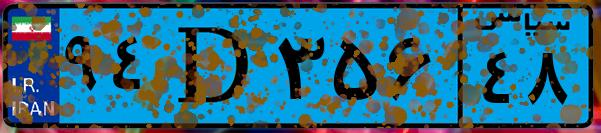3: (270, 28, 330, 110)
4: (475, 38, 525, 113), (110, 28, 158, 98)
5: (330, 28, 385, 110)
6: (385, 28, 445, 110)
8: (525, 38, 570, 115)
9: (57, 26, 110, 100)
D: (158, 12, 270, 120)
